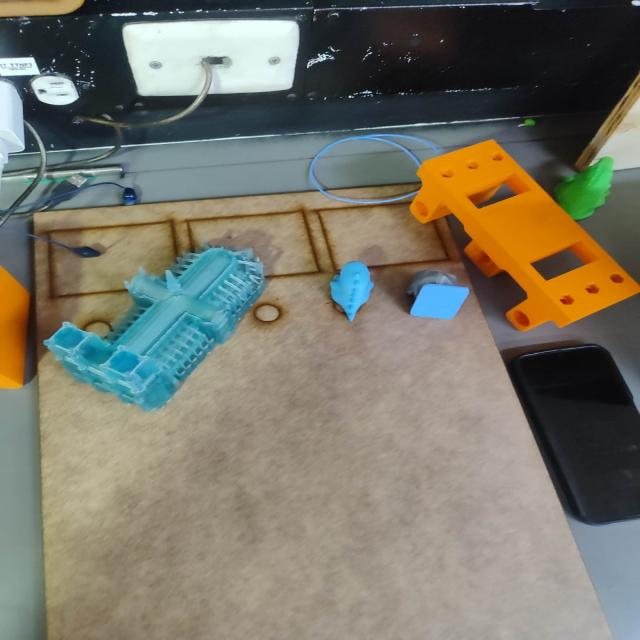DINO: (326, 252, 380, 324)
